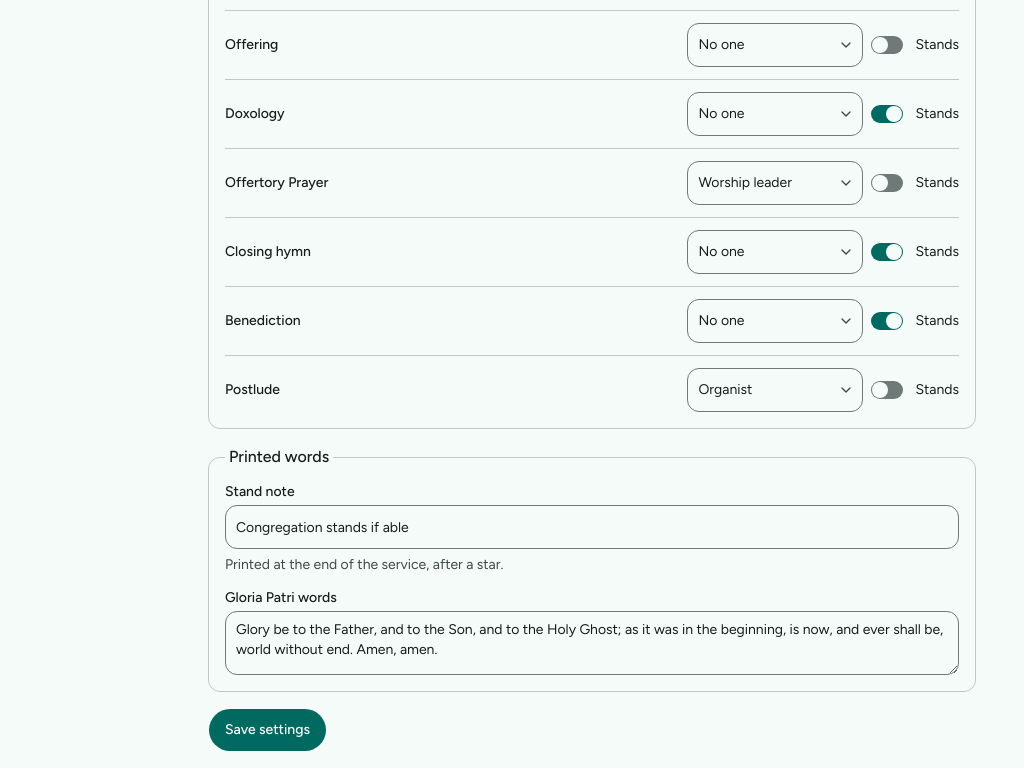
Bulletin settings (printed bulletin PR 2a) › keeps what is typed while saving, and shows what was stored everywhere else
This screenshot has width=1024, height=768.
(page scrolled)
Replace the text in the field labelled "Stand note" with "*Please stand if able" at coordinates (592, 527), box [225,505,959,549]
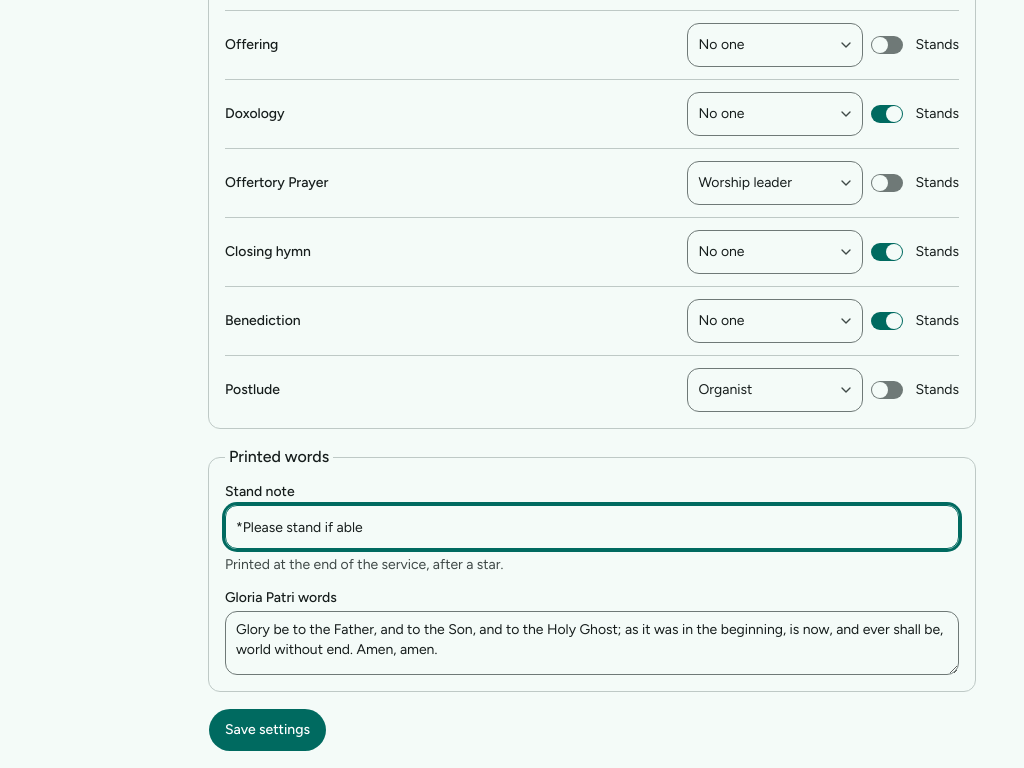
Click the button "Save settings" at coordinates (268, 730), box [208,708,327,752]
(page scrolled)
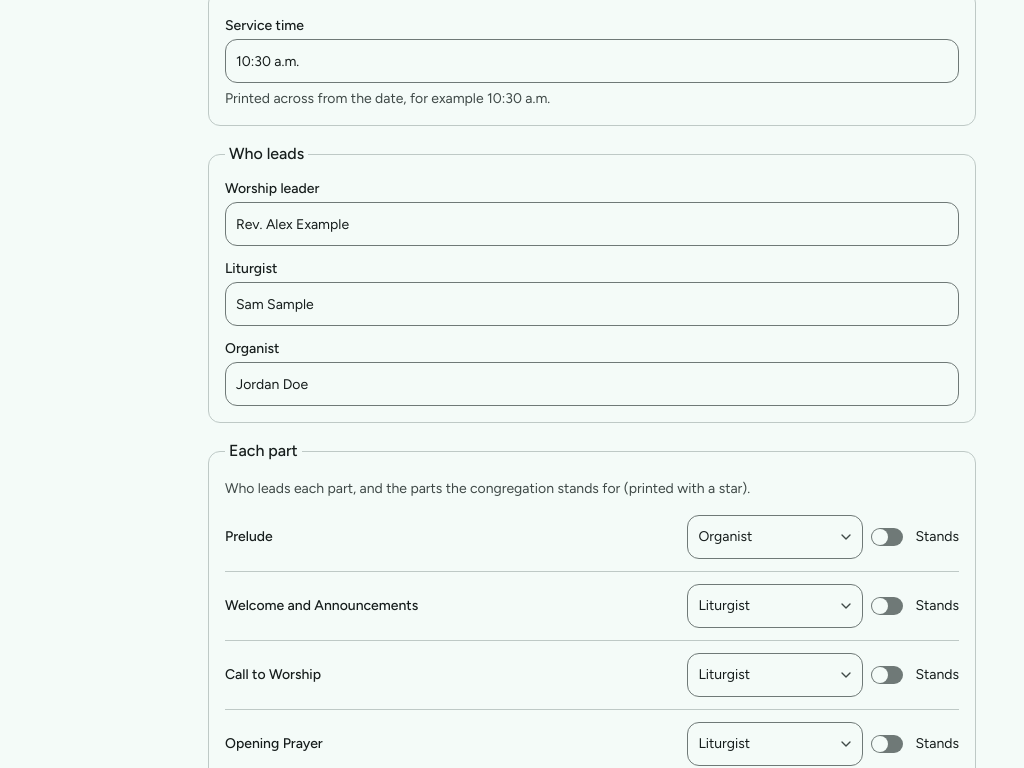
Type " Jr." into the field labelled "Organist" at coordinates (592, 384), box [225,362,959,406]
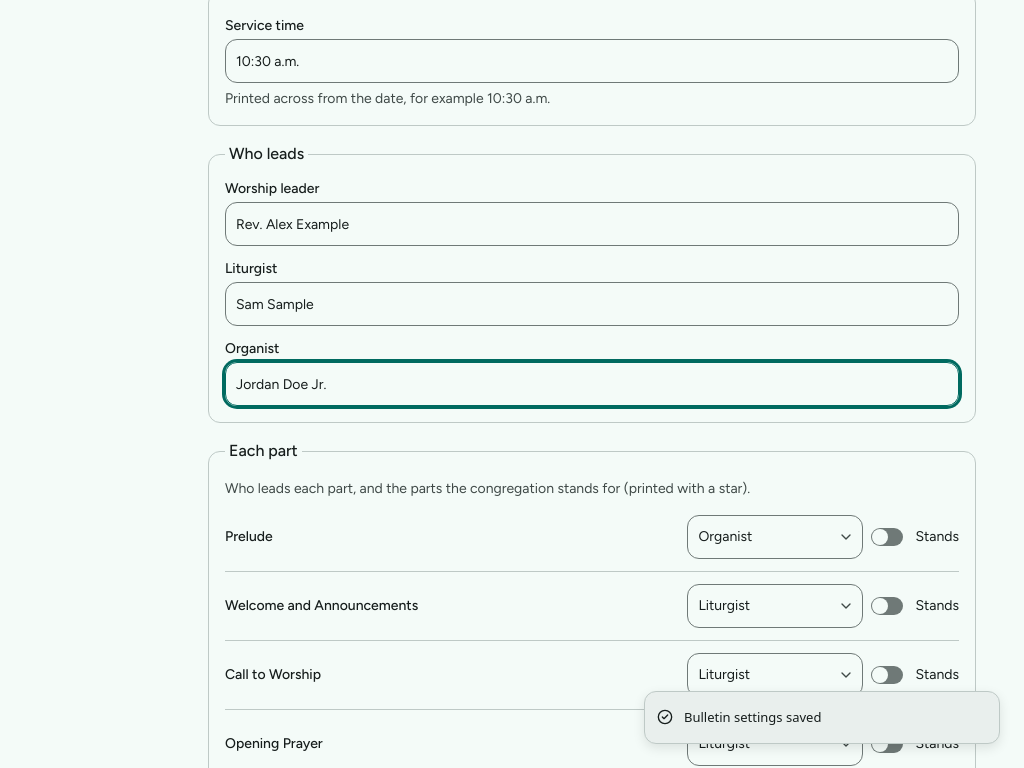
Check: the text "Bulletin settings saved" is shown, box [684,708,821,727]
Check: the field labelled "Organist" holds "Jordan Doe Jr.", box [225,362,959,406]
